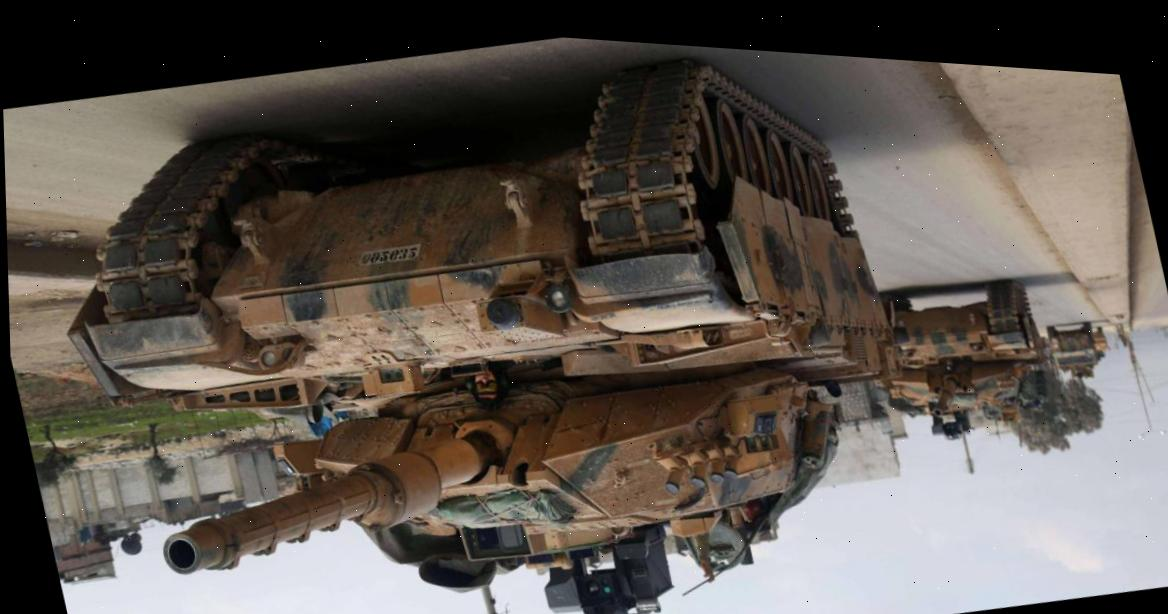armored_car: (1043, 315, 1102, 386)
tank: (18, 1, 951, 614), (853, 261, 1062, 460)
